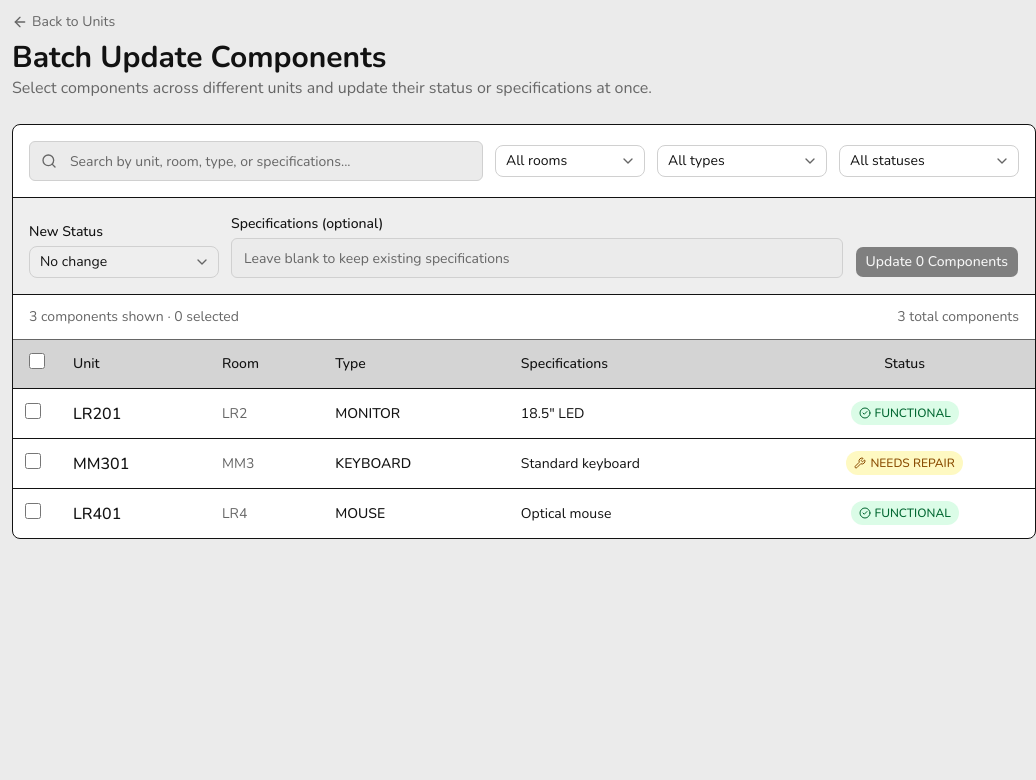
Test: BatchUpdateClient › filters components by room
Click the dropdown named "filter by room".
click(570, 161)  # box 495,145 -> 645,177
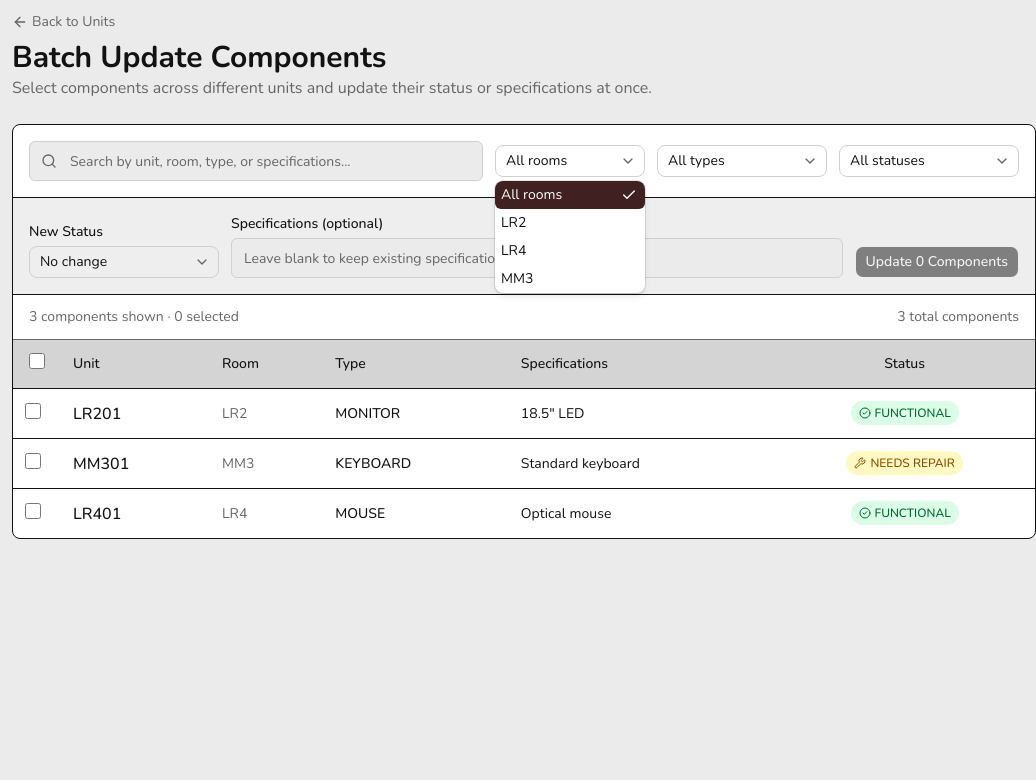
Click the option "MM3".
click(517, 278)  # box 501,269 -> 533,288
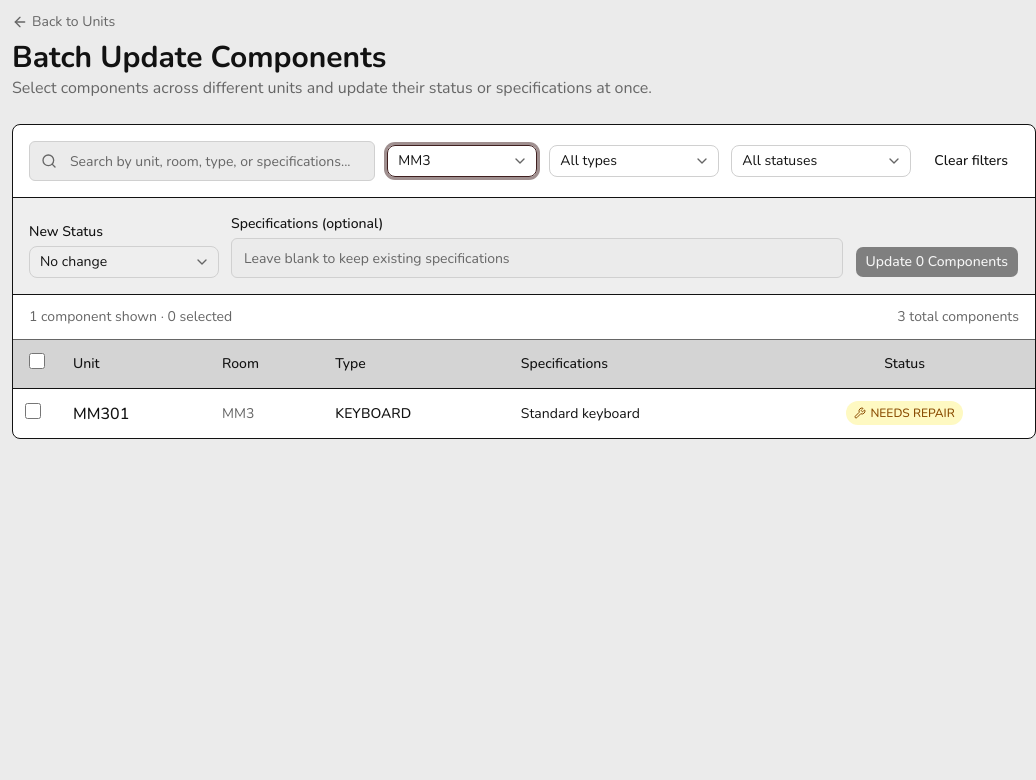
Check: the link "MM301" is shown, box 73,402 -> 129,424
Check: the link "LR201" is gone
Check: the text "1 component shown · 0 selected" is shown, box 29,307 -> 232,327
